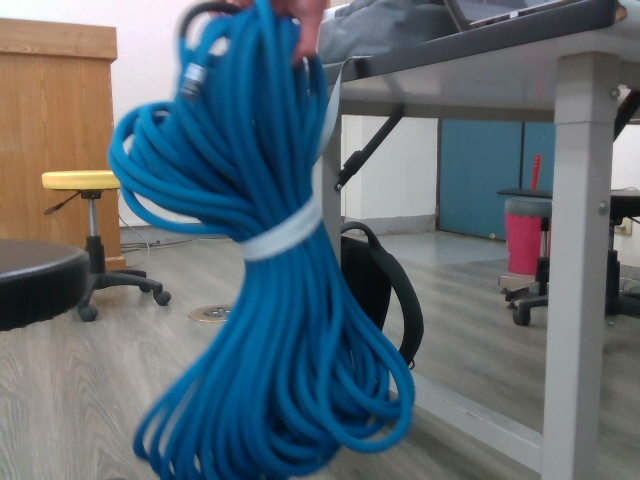rope: (107, 3, 419, 480)
